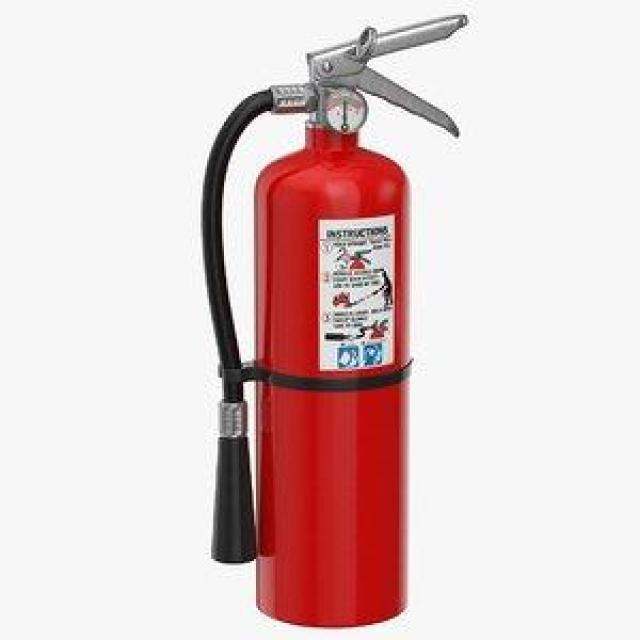fire_extinguisher: (191, 9, 470, 632)
